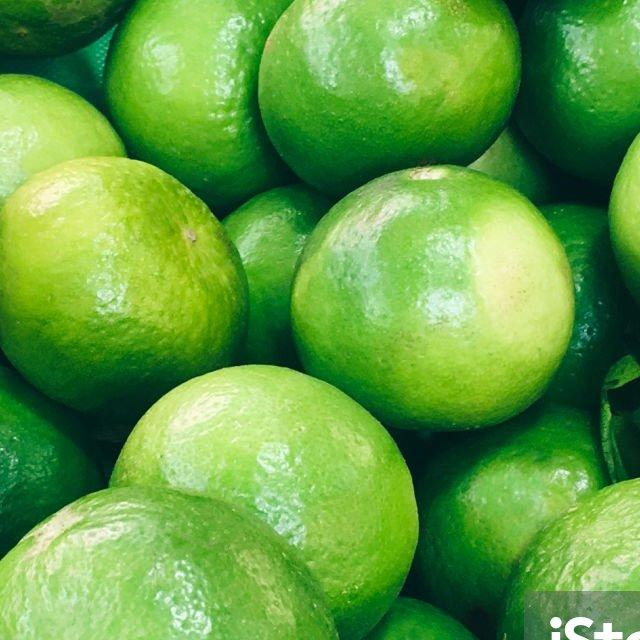lime: (240, 0, 528, 207), (0, 486, 347, 640)
